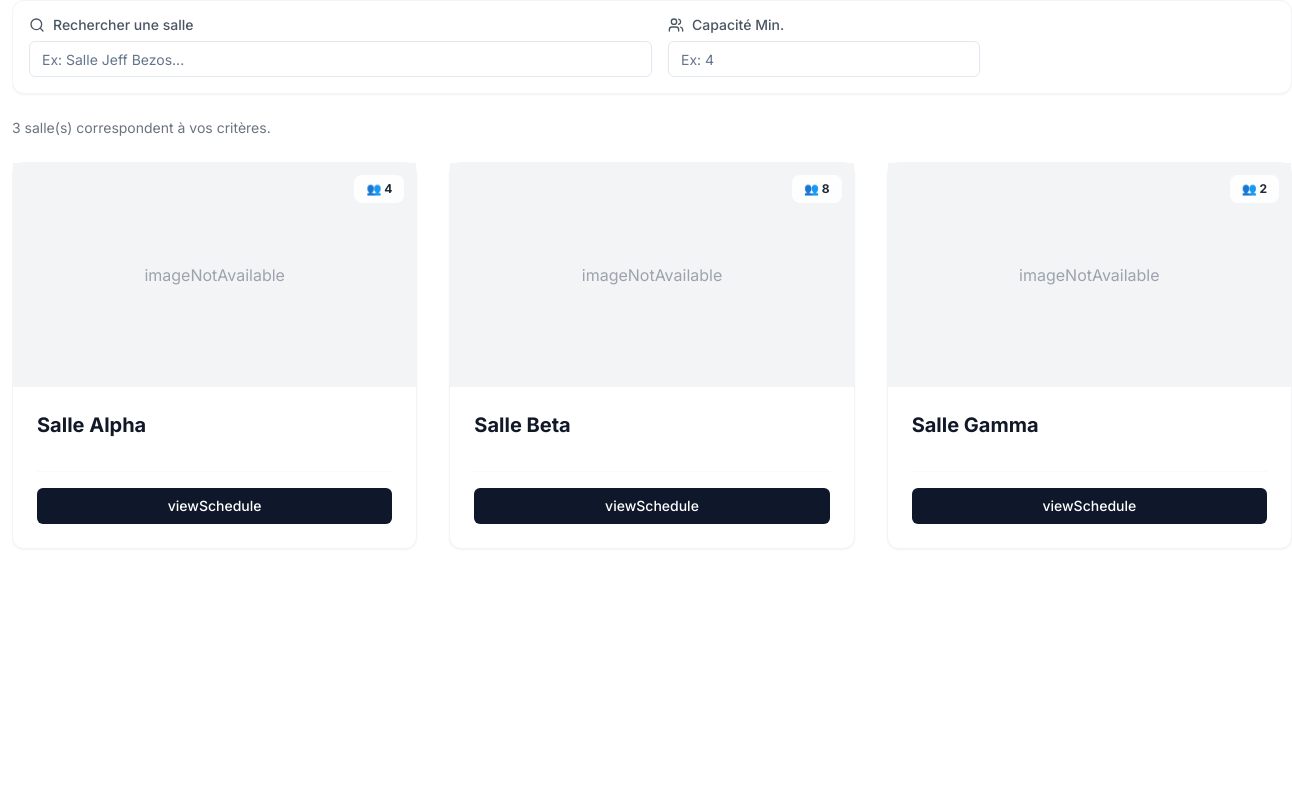
Scenario: FilteredRoomList › filters by capacity
Type "5" into the number field with placeholder "Ex: 4" at (824, 59), box [668,41,980,77]
Wait 500 ms
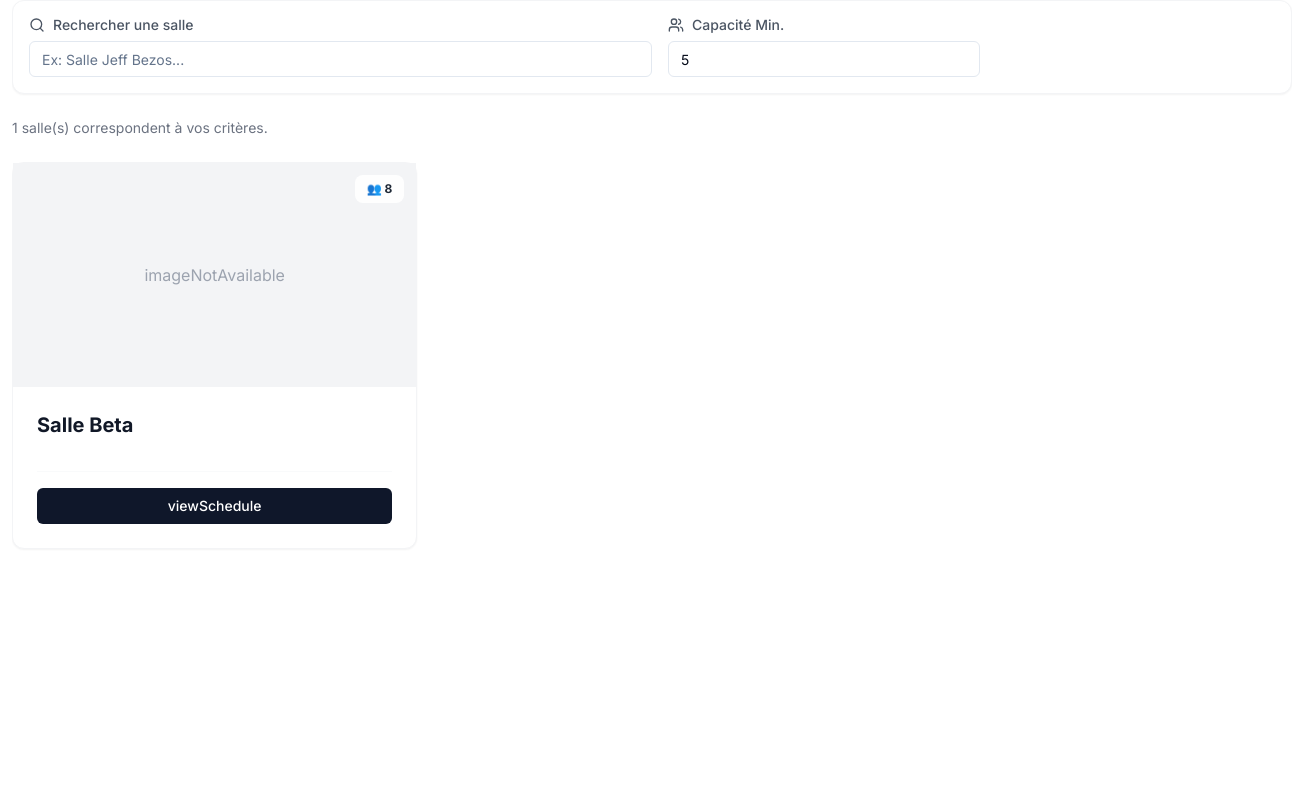
Check: the text "1 salle(s) correspondent à vos critères." is shown, box [12,119,268,136]
